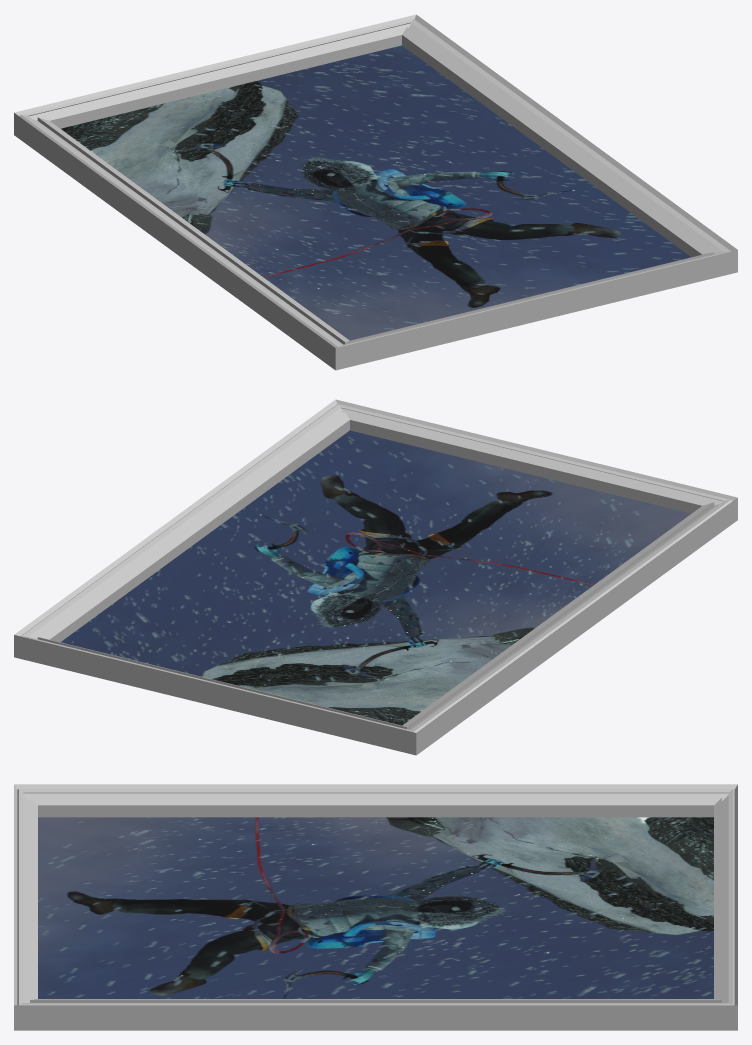
File: painting2.fbx
3 views of the same model, one above another, from view 1: azimuth 30°, elevation 25°; view 2: azimuth 150°, elevation 25°; view 3: azimuth 270°, elevation 25° (orthographic). The views are drawn at different scales.
Parts seen in each view (by area): view 1: Plane.008; view 2: Plane.008; view 3: Plane.008.
Boxes of the visible parts, bbox=[...] form: Plane.008: bbox=[14, 14, 737, 370]; Plane.008: bbox=[14, 399, 737, 755]; Plane.008: bbox=[14, 784, 737, 1030].
Size of the model in its own units: 58.93 by 3.15 by 81.58.
